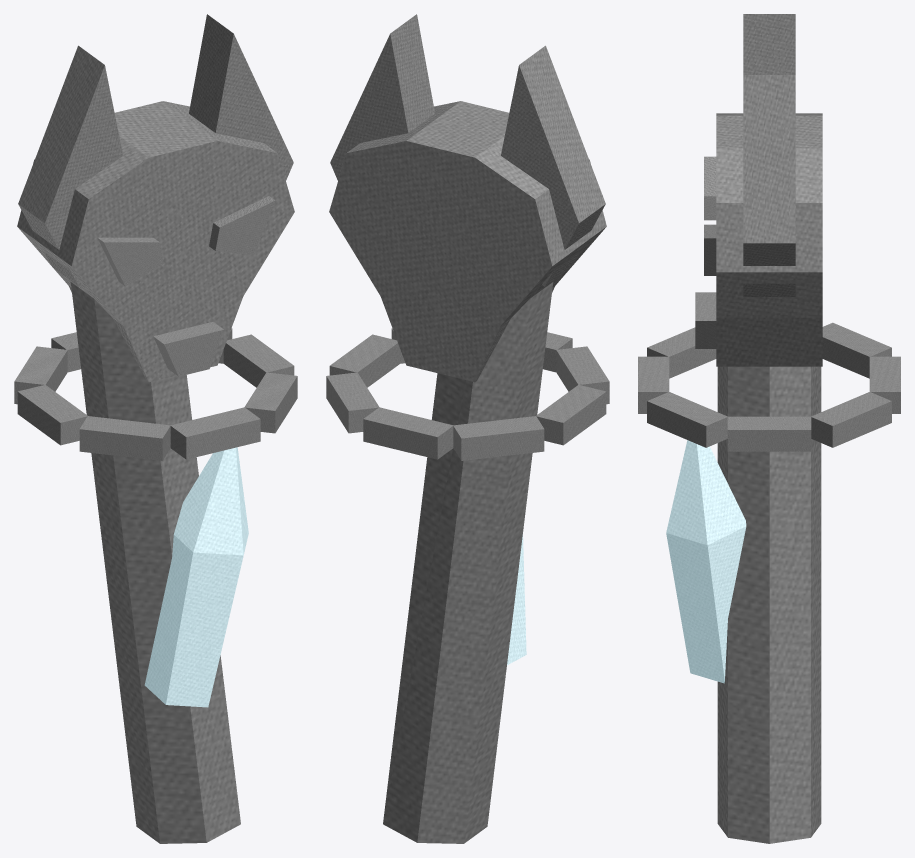
The model's file is spirit-fetish-wolf.glb.
The picture shows the model from 3 angles, left to right: view 1: azimuth 30°, elevation 25°; view 2: azimuth 150°, elevation 25°; view 3: azimuth 270°, elevation 25°; orthographic projection. The views are drawn at different scales.
Parts seen in each view (by area): view 1: spine, wolf-skull, spirit-chip, left-ear, right-ear, binding-3, binding-2, binding-4, wolf-nose, wolf-eye-1, wolf-eye--1, binding-0 (+3 smaller); view 2: spine, wolf-skull, left-ear, right-ear, binding-5, binding-6, binding-4, binding-0, binding-7, binding-3, spirit-chip, binding-2; view 3: spine, wolf-skull, spirit-chip, right-ear, left-ear, binding-0, binding-1, binding-7, binding-5, binding-3, binding-2, binding-6 (+3 smaller).
Boxes of the visible parts, x1,y1,x2,y2 form: spine: (70,282,240,843); wolf-skull: (17,101,294,382); spirit-chip: (144,447,248,707); left-ear: (18,45,122,286); right-ear: (189,14,293,180); binding-3: (79,416,170,460); binding-2: (170,407,260,459); binding-4: (17,384,87,445); wolf-nose: (153,322,223,376); wolf-eye-1: (209,196,275,254); wolf-eye--1: (97,237,163,286); binding-0: (223,334,294,387); spine: (383,282,553,843); wolf-skull: (329,101,606,382); left-ear: (501,45,605,286); right-ear: (330,14,434,180); binding-5: (453,416,544,460); binding-6: (363,407,453,459); binding-4: (536,385,606,445); binding-0: (329,334,400,387); binding-7: (326,372,379,433); binding-3: (556,346,609,404); spirit-chip: (507,534,526,665); binding-2: (543,332,572,372); spine: (717,366,821,843); wolf-skull: (716,113,822,366); spirit-chip: (666,440,746,683); right-ear: (743,75,795,296); left-ear: (743,14,795,74); binding-0: (727,416,811,451); binding-1: (647,392,727,447); binding-7: (811,392,891,447); binding-5: (822,322,891,378); binding-3: (647,327,716,378); binding-2: (638,356,669,413); binding-6: (869,356,900,413).
Size of the model in its own units: 0.29 by 0.8836 by 0.2725.
Materials: 7 (7 with a texture image).
